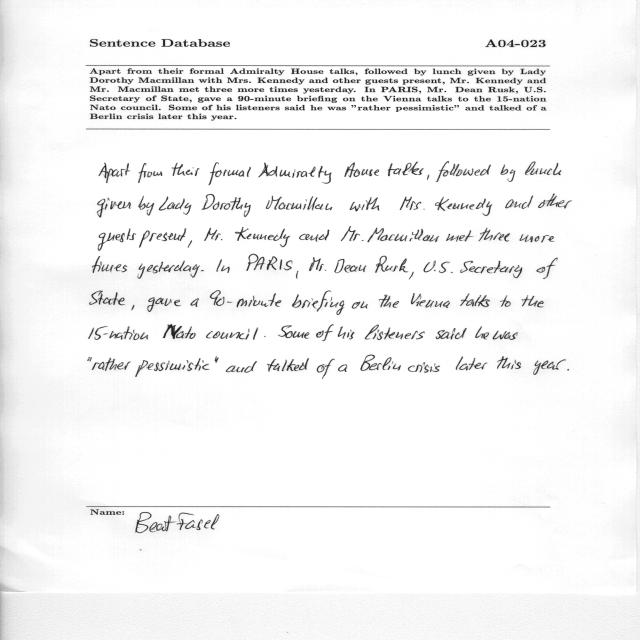word: (135, 356, 219, 377), (89, 324, 196, 340), (259, 163, 332, 184), (292, 291, 344, 315), (210, 291, 281, 308), (436, 161, 491, 182), (201, 194, 251, 217), (137, 261, 200, 279), (235, 227, 290, 247), (435, 197, 492, 216), (460, 261, 522, 278), (368, 228, 440, 242), (208, 163, 251, 186), (139, 228, 186, 248), (266, 196, 332, 210), (365, 325, 425, 340), (98, 229, 136, 251), (247, 254, 293, 271), (97, 198, 131, 218), (360, 355, 401, 371), (159, 196, 192, 215), (99, 163, 130, 183), (93, 256, 128, 273), (267, 358, 309, 372), (411, 293, 450, 308), (375, 256, 408, 273), (388, 162, 424, 177), (533, 359, 566, 375), (345, 163, 380, 178), (90, 291, 125, 306), (147, 297, 181, 312), (92, 358, 131, 371), (525, 162, 561, 176), (220, 327, 258, 340), (536, 257, 558, 279), (138, 163, 162, 183), (538, 194, 572, 208), (335, 259, 367, 273), (456, 357, 488, 371), (350, 197, 379, 212), (478, 228, 510, 241), (278, 326, 309, 339), (505, 195, 533, 209), (460, 294, 490, 307), (171, 163, 200, 176), (299, 230, 329, 242), (423, 261, 453, 273), (317, 359, 335, 379), (408, 362, 440, 373), (341, 226, 364, 241), (436, 328, 467, 339), (446, 230, 474, 242), (400, 197, 425, 210), (497, 356, 521, 369), (316, 324, 334, 341), (139, 196, 154, 215), (520, 234, 555, 242), (379, 294, 399, 308), (521, 296, 544, 308), (501, 164, 516, 182), (204, 228, 223, 241), (309, 257, 326, 271), (492, 331, 518, 340), (338, 327, 355, 340), (217, 259, 230, 273), (475, 326, 489, 339), (244, 361, 257, 373), (500, 295, 511, 307), (226, 366, 244, 373), (352, 302, 368, 309), (206, 331, 220, 338), (191, 298, 199, 307), (338, 364, 347, 372), (409, 272, 414, 280), (188, 240, 192, 248), (88, 357, 92, 362), (132, 305, 135, 311), (296, 271, 298, 279), (427, 175, 429, 180), (567, 369, 569, 371), (201, 270, 204, 271), (264, 336, 266, 337)
